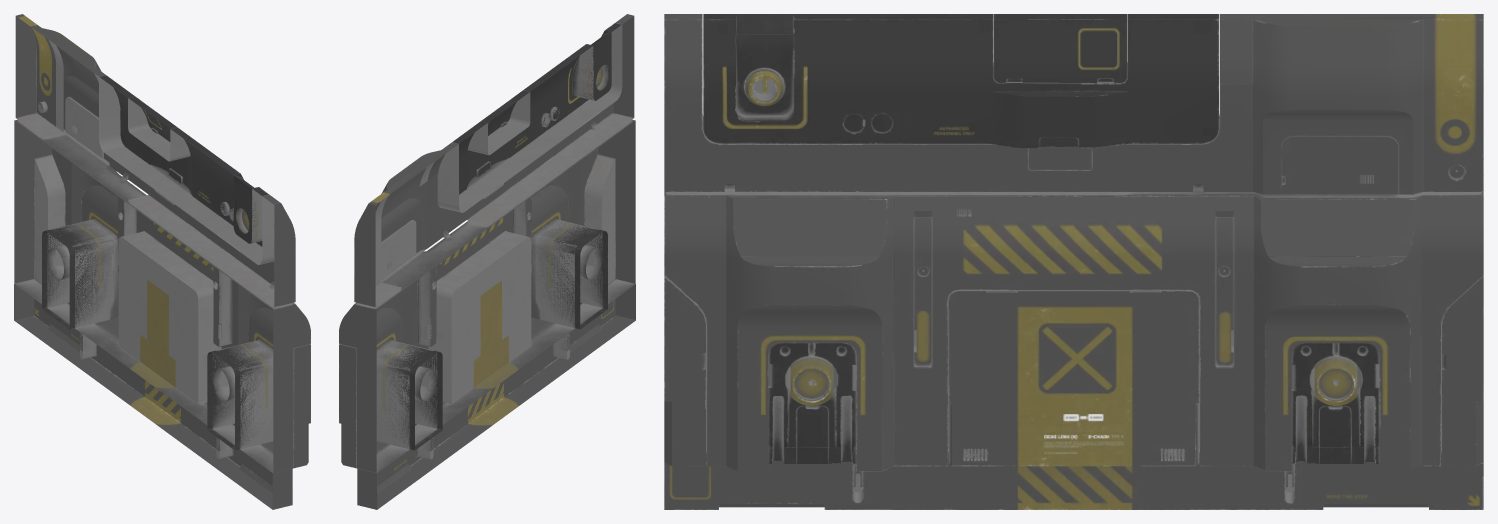
File: c008-opt.glb
3 renders of one model, left to right at view 1: azimuth 30°, elevation 25°; view 2: azimuth 150°, elevation 25°; view 3: azimuth 270°, elevation 25°, orthographic. The views are drawn at different scales.
Parts seen in each view (by area): view 1: Cube.008; view 2: Cube.008; view 3: Cube.008.
Part boxes in pixels (x1,y1,x2,y2): Cube.008: (14,14,310,509); Cube.008: (339,14,635,509); Cube.008: (664,14,1483,509).
Size of the model in its own units: 0.5966 by 2.94 by 4.53.
1 material, 1 textured.
